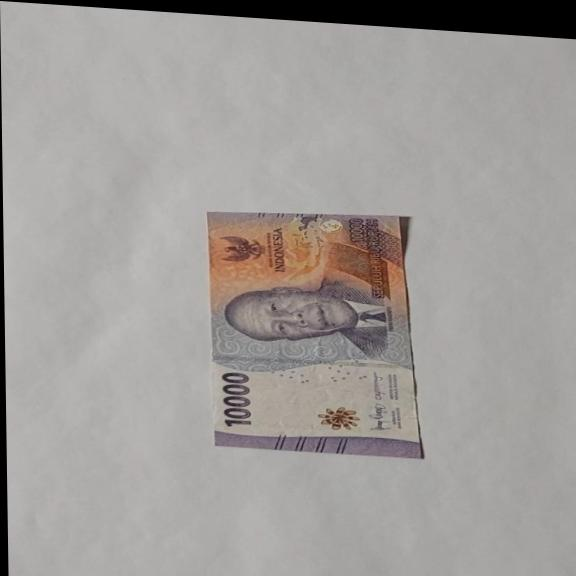Kertas: (204, 201, 423, 460), (219, 370, 254, 428)
